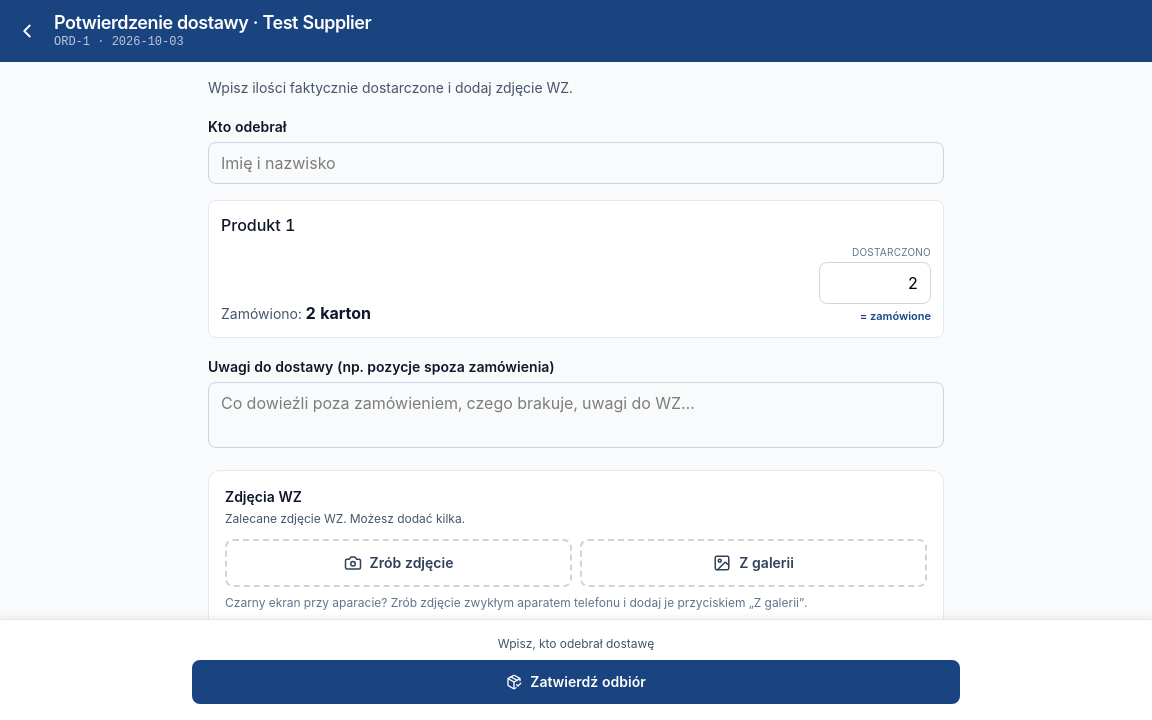
Test: ReceiveDeliveryPage received-by message (N4) › clears the error and hint once a name is typed
Step 1. Click the button "Zatwierdź odbiór" → (576, 682), box [192,660,960,704]
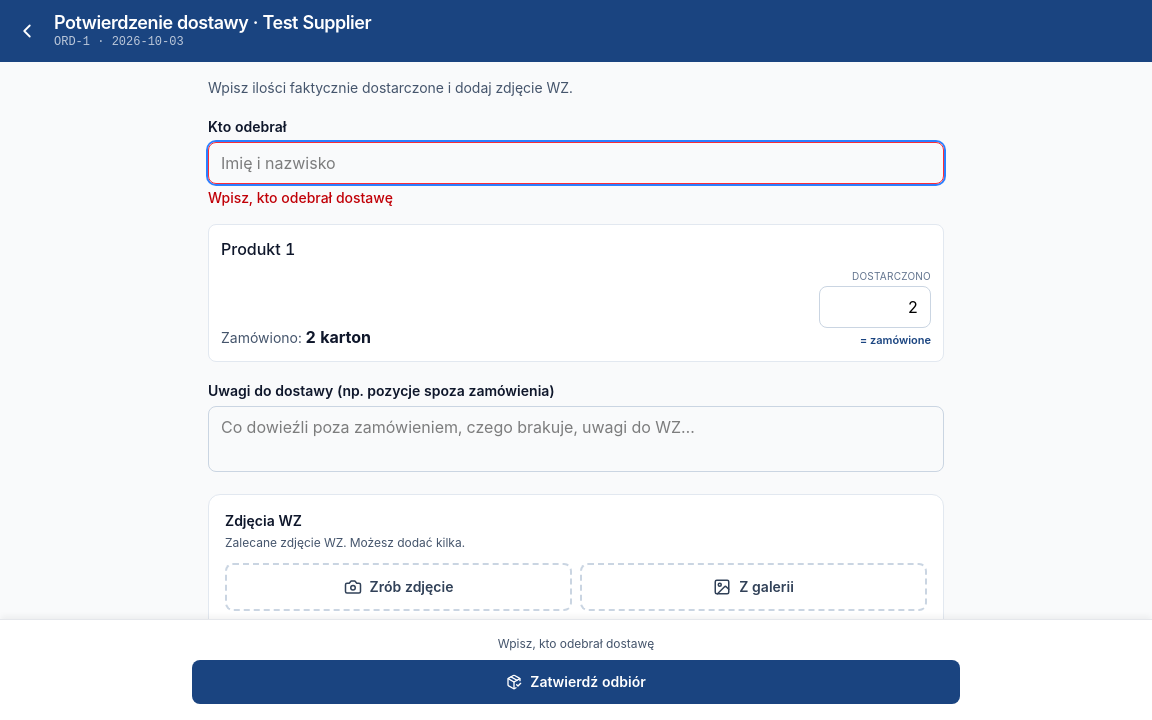
Now the message "Wpisz, kto odebrał dostawę" is shown, box [208,189,393,206]
Step 2. Type "Ela" into the field with placeholder "Imię i nazwisko" → (576, 163), box [208,142,944,184]
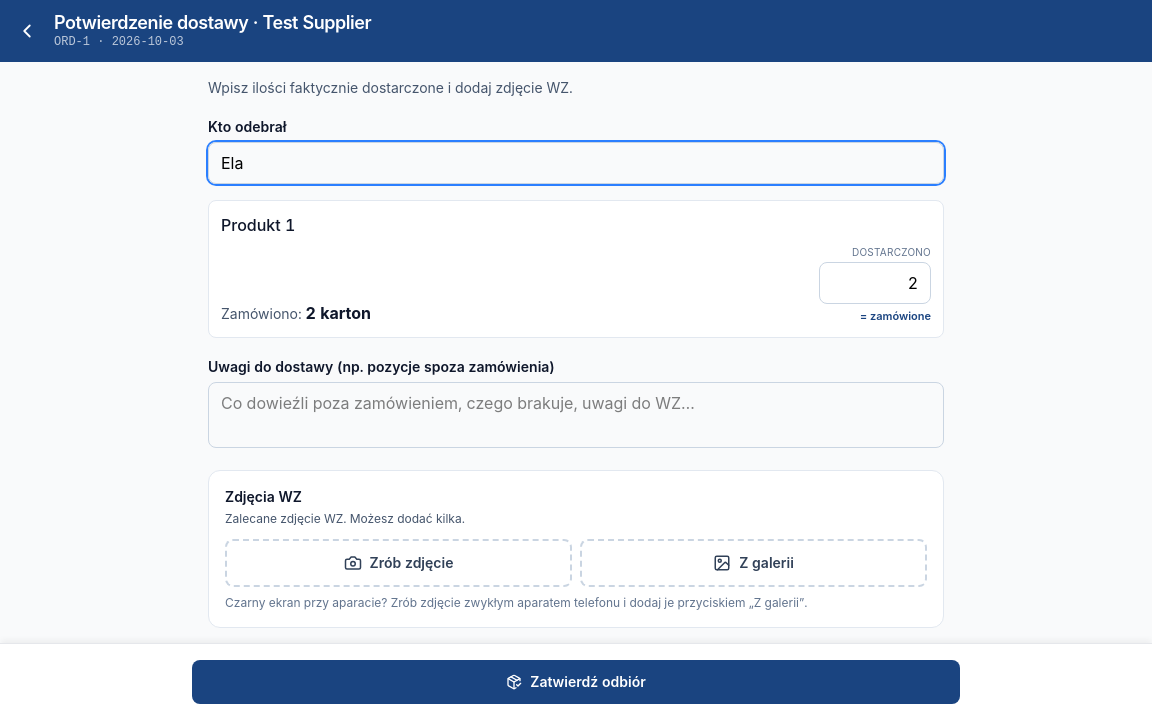
Now the text "Wpisz, kto odebrał dostawę" is gone
Now the message "Wpisz, kto odebrał dostawę" is gone
